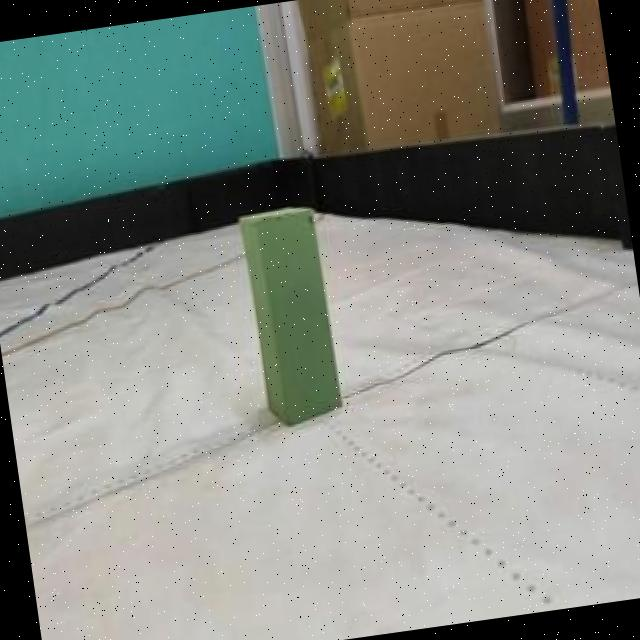greenbox: (235, 203, 346, 434)
